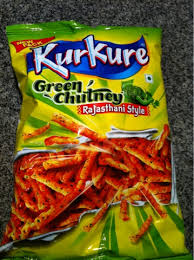kurkure: (30, 38, 150, 77)
plastic: (3, 13, 191, 260)
wrapper: (8, 24, 175, 256)
